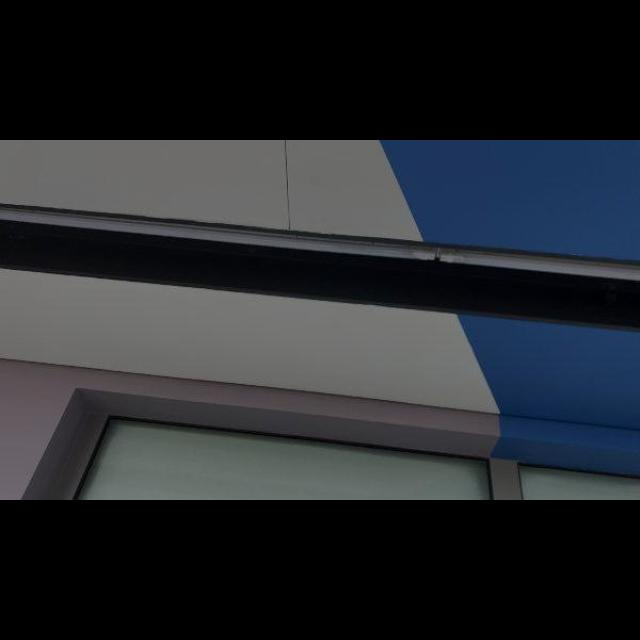Straight-Tube-Fluorescent-Lamp: (0, 194, 638, 296)
